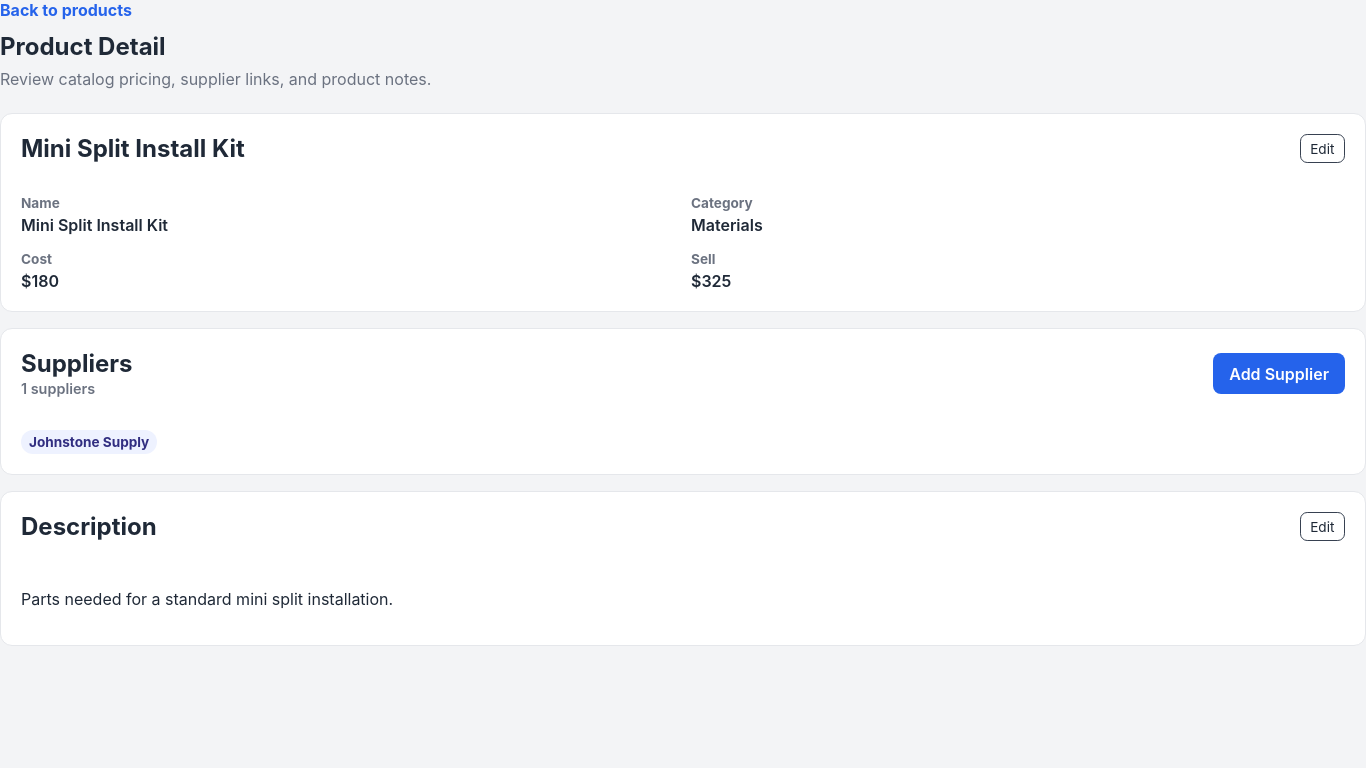
it: ProductDetailPage › updates the product info box
This screenshot has width=1366, height=768.
Expected: the element "Mini Split Install Kit" is shown, [0,113,1365,312]
Click the 1st button "Edit": (1322, 149) [1300,134,1345,163]
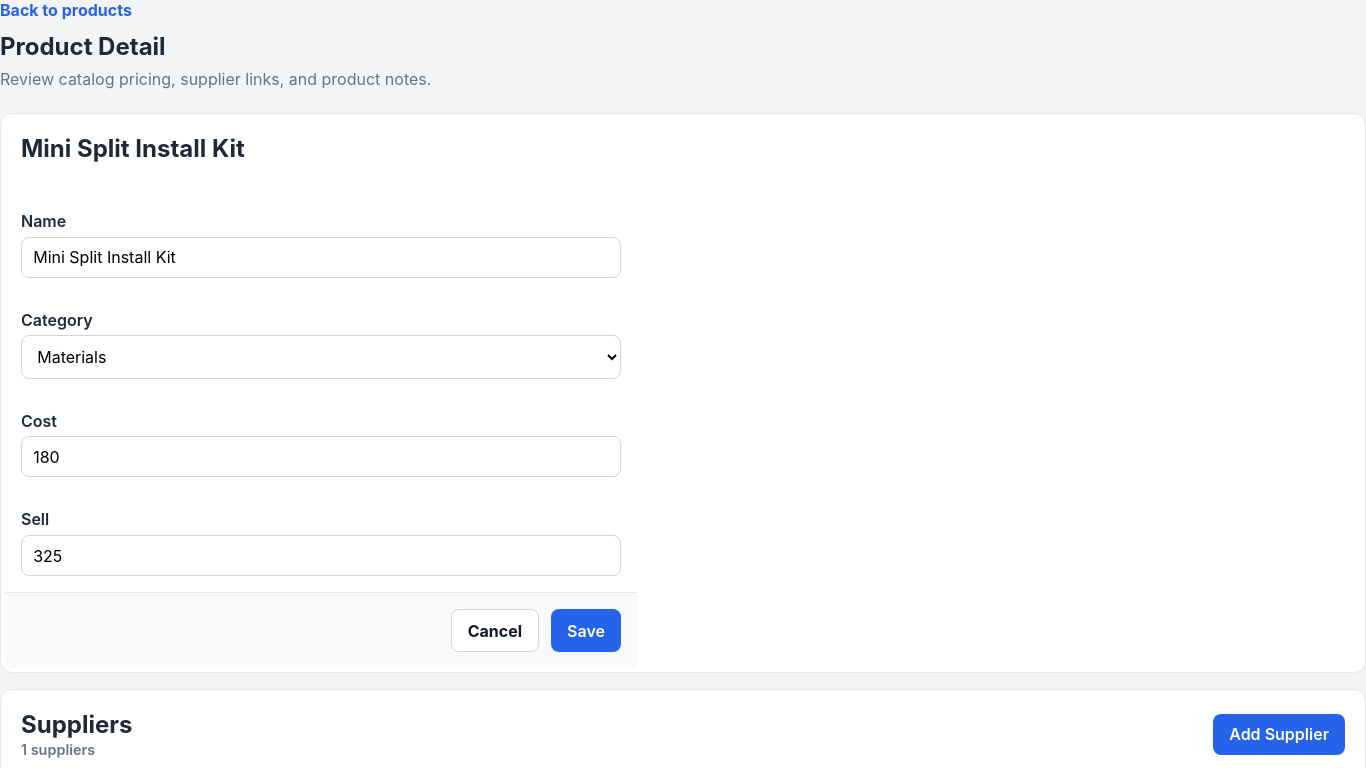
Replace the text in the field labelled "Name" with "Updated Install Kit": (321, 257) [21,237,621,278]
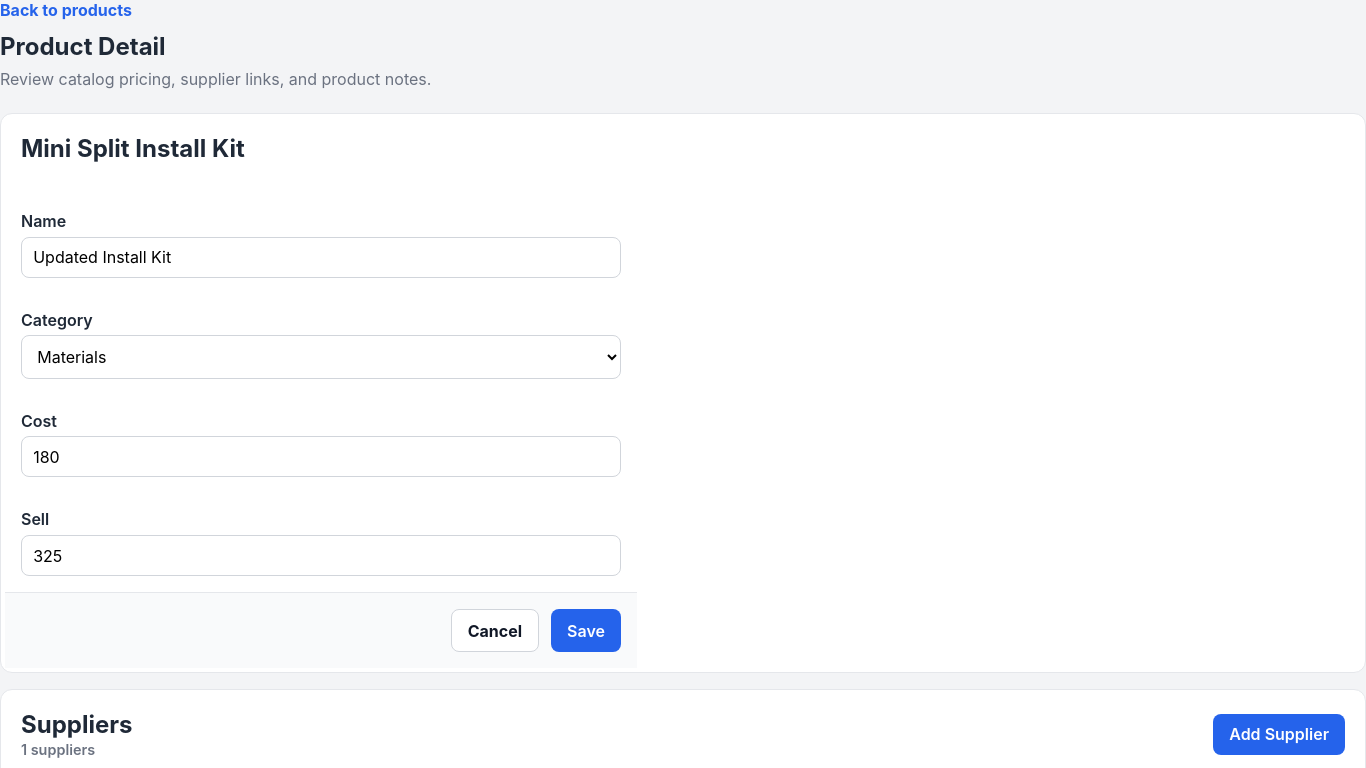
Select "Parts" in the dropdown labelled "Category": (321, 357) [21,335,621,379]
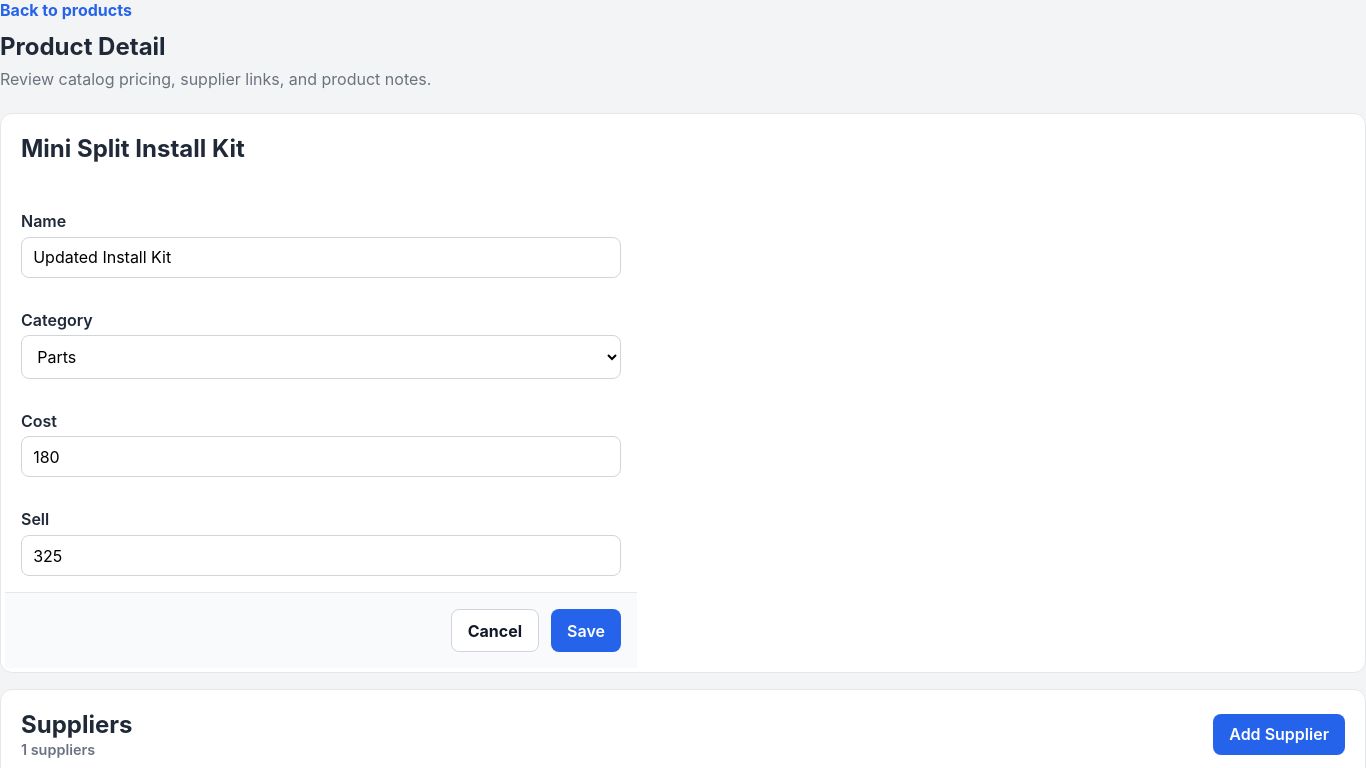
Replace the text in the field labelled "Cost" with "190": (321, 457) [21,436,621,477]
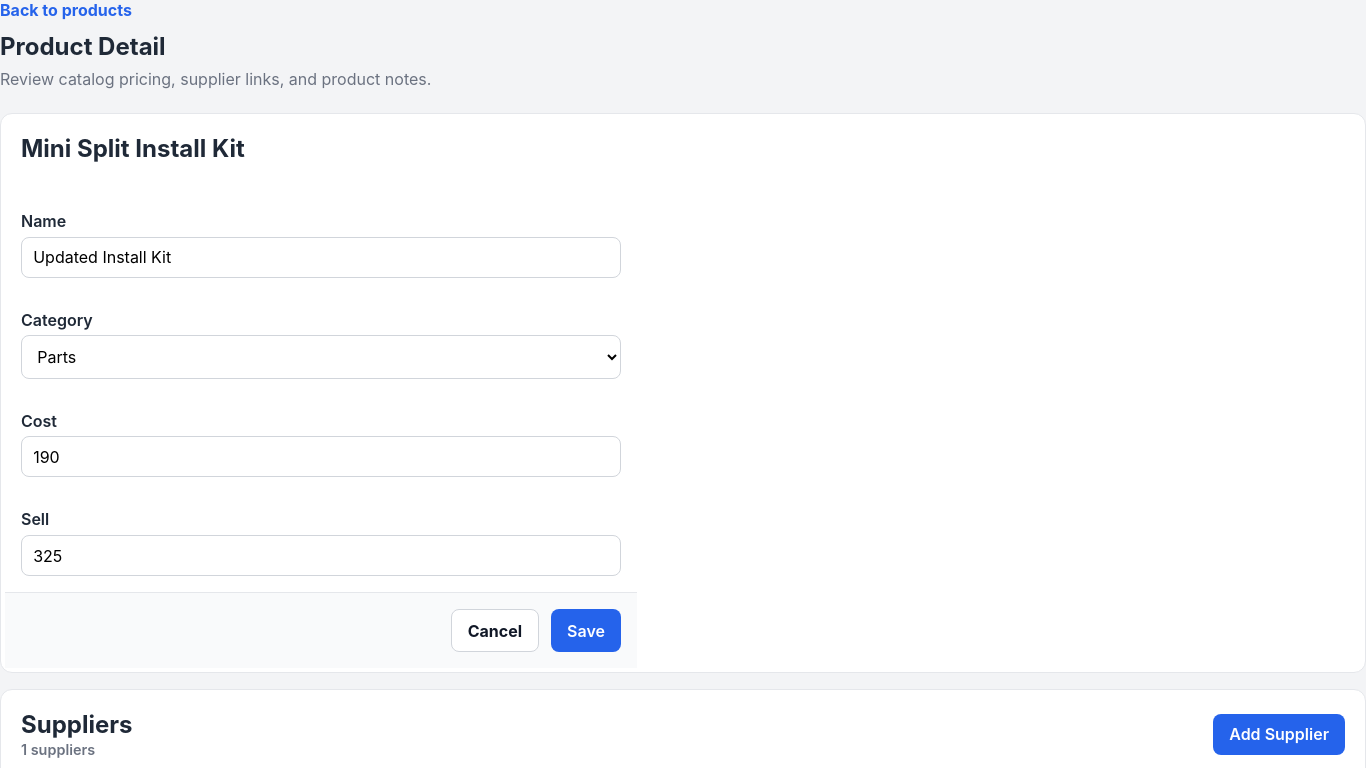
Replace the text in the field labelled "Sell" with "350": (321, 556) [21,535,621,576]
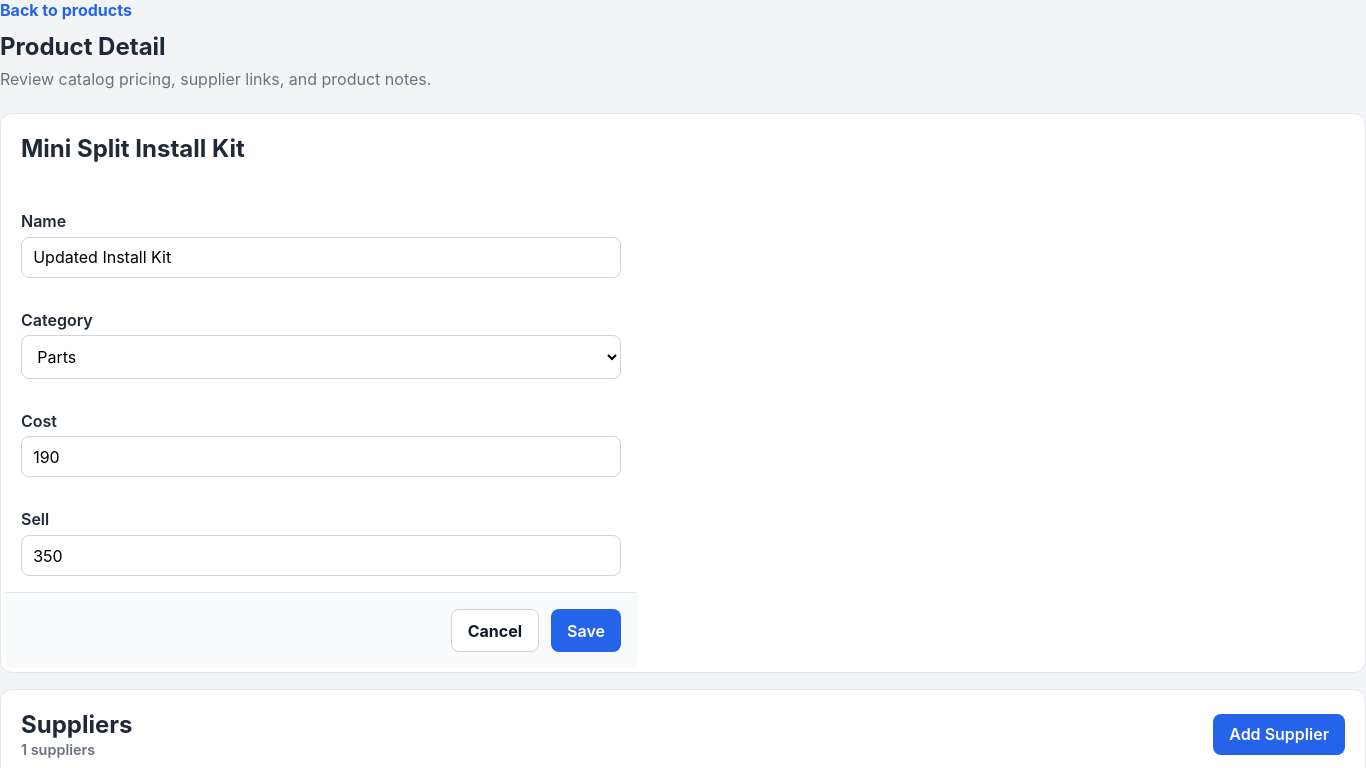
Click the button "Save": (586, 630) [551,609,621,652]
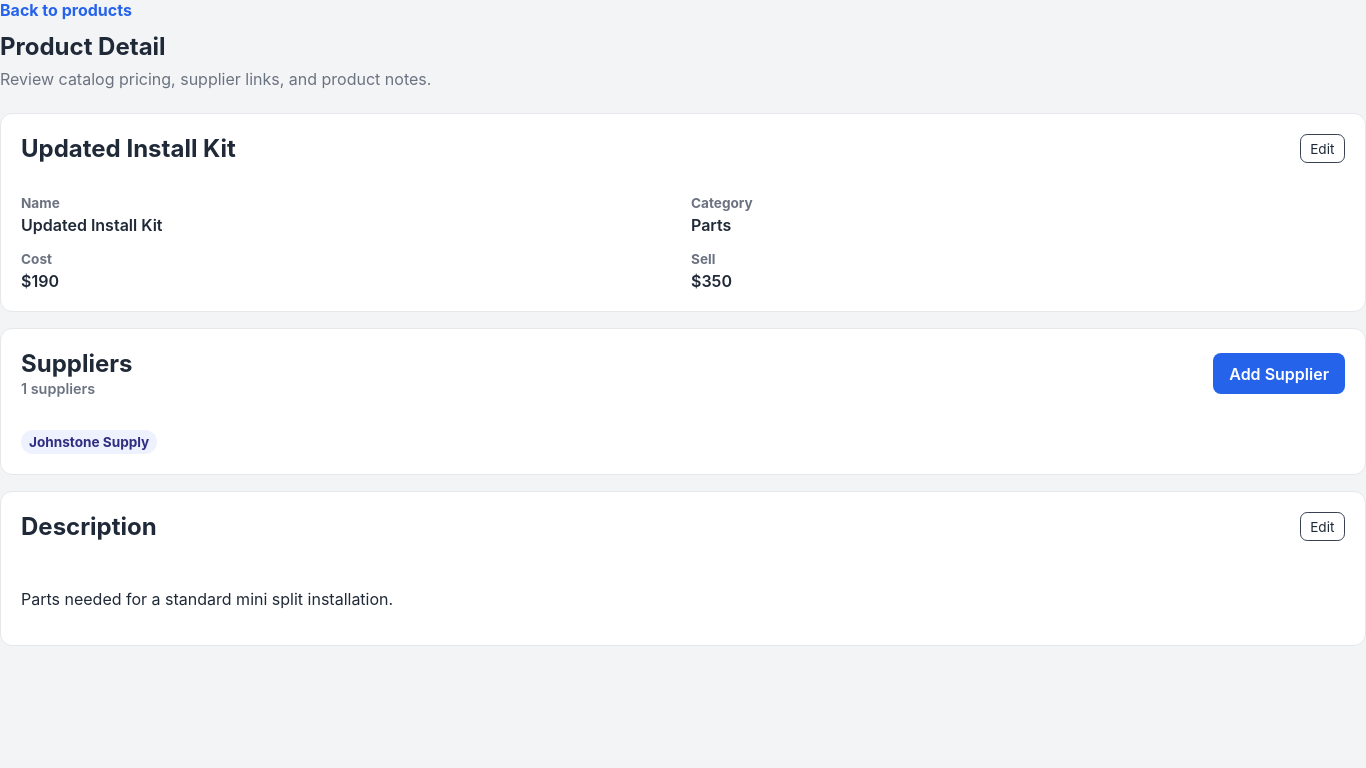
Now the heading "Updated Install Kit" is shown, box [21,134,236,163]
Now the text "Parts" is shown, box [691,215,731,235]
